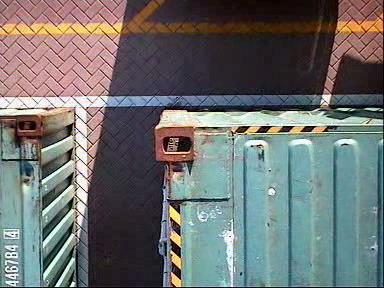groundmarker_2: (22, 141, 109, 283)
